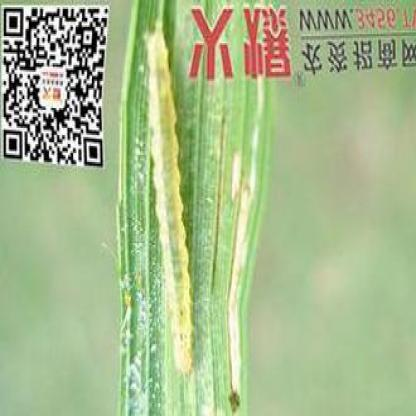leaf-folder: (134, 28, 191, 377)
